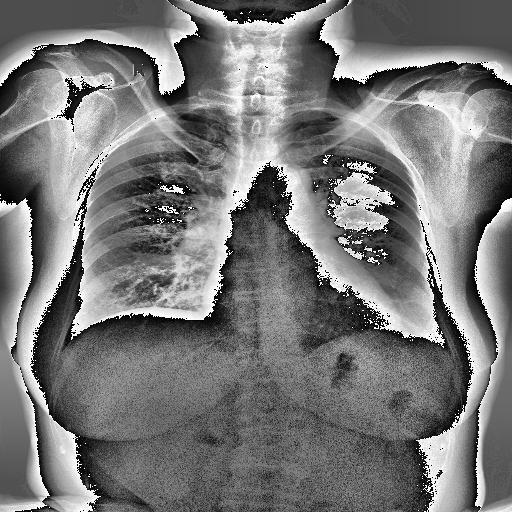0- Aortic enlargement: (262, 166, 316, 216), (270, 162, 316, 220), (269, 166, 311, 200)
3- Cardiomegaly: (202, 258, 402, 335), (194, 280, 404, 336)
